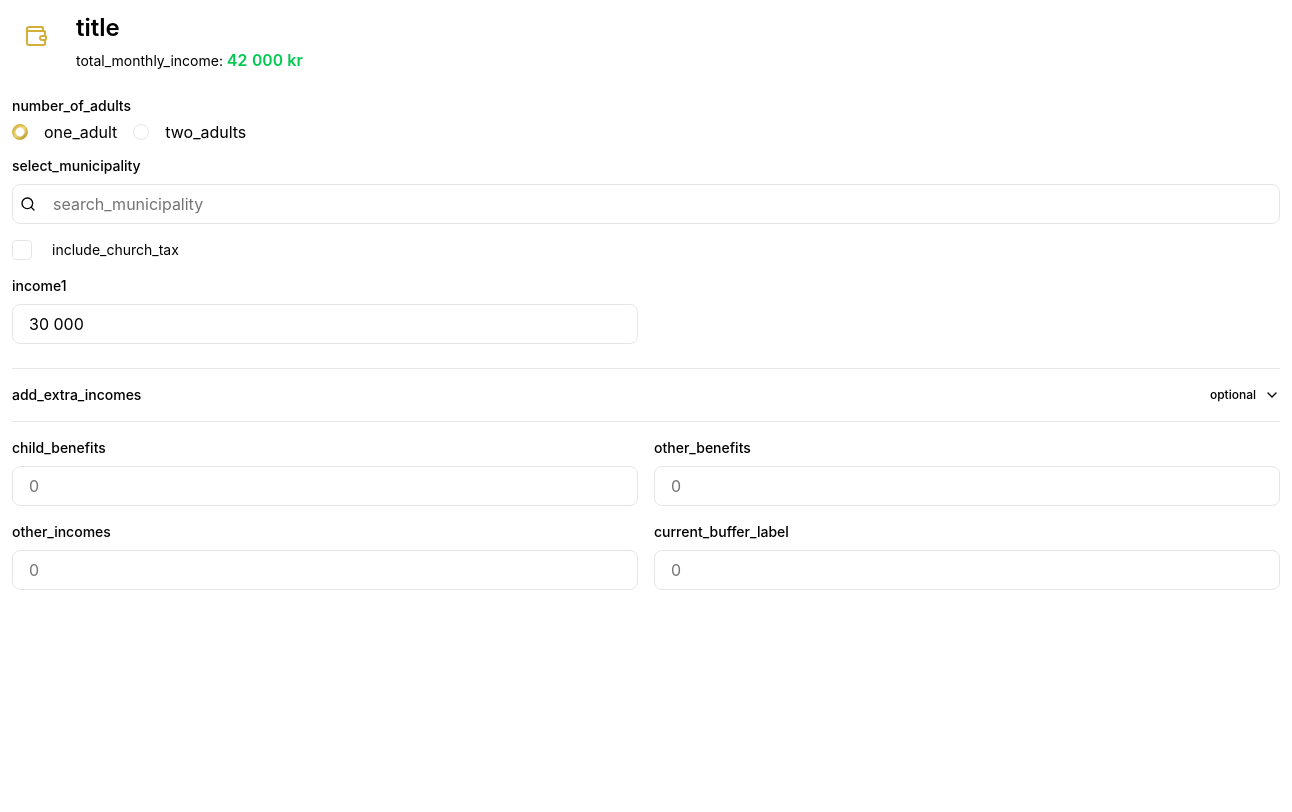
Test: Income › Secondary Income Tax Rate Slider › should display default tax rate value in slider
# Expand secondary income section
Click the button with test id "extra-incomes-toggle".
click(77, 394)  # box [12, 369, 1280, 421]
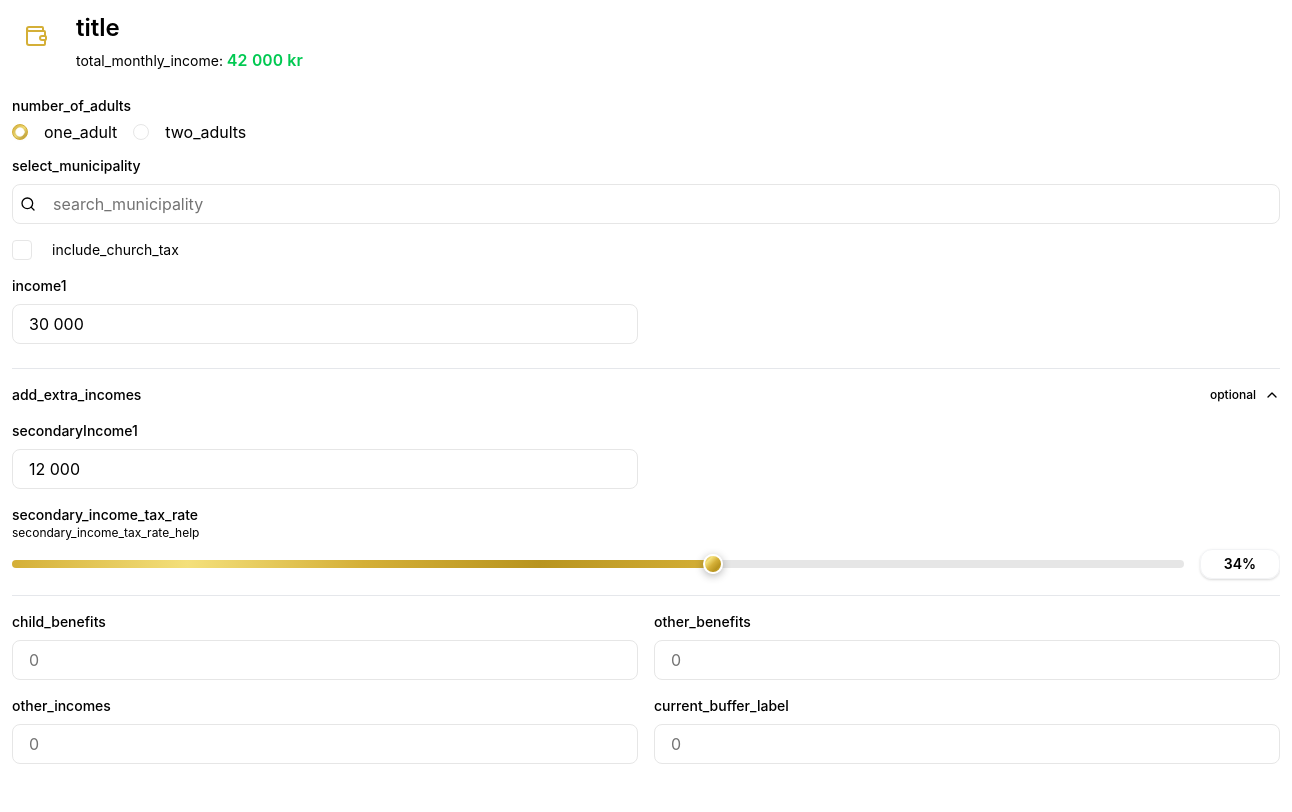
Expected: the slider named "secondary_income_tax_rate_aria" holds "34", [12, 560, 1184, 568]
Expected: the text "34%" is shown, [1224, 555, 1256, 572]
